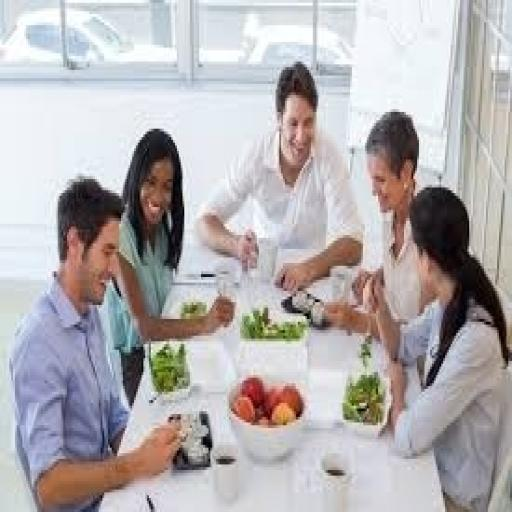eating: (8, 174, 186, 509), (361, 182, 510, 509), (192, 59, 365, 294)
